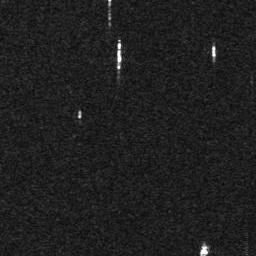ship: (115, 49, 124, 65), (200, 243, 209, 256), (210, 44, 217, 57)
